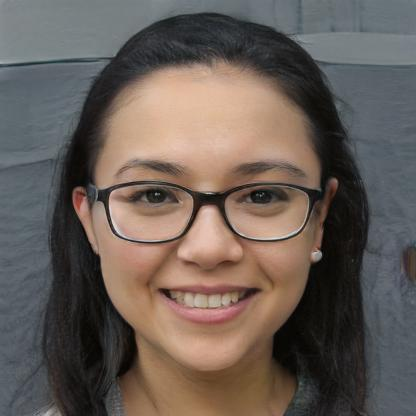glasses: (98, 176, 322, 249)
